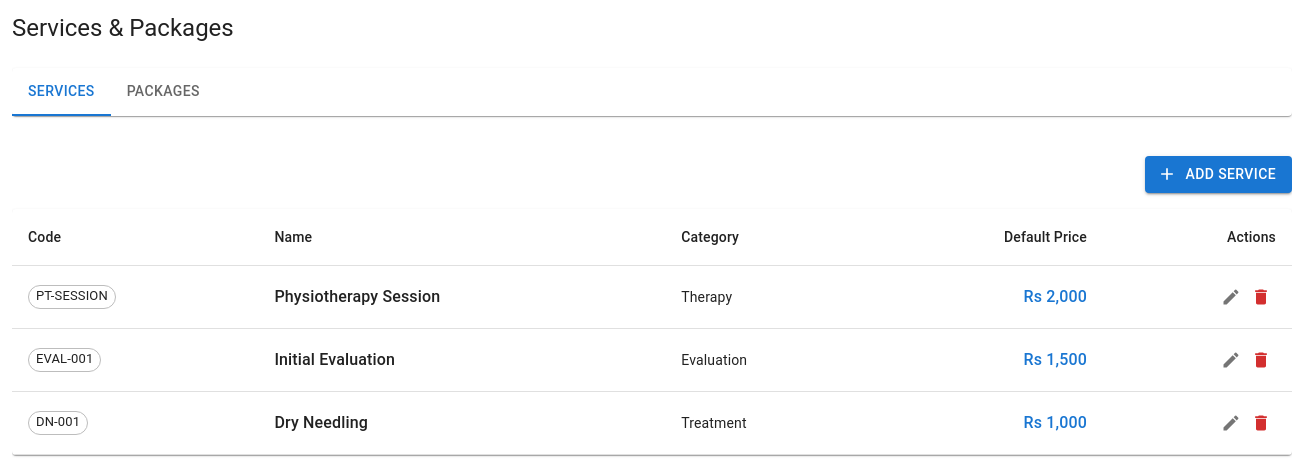
Scenario: Service Management Integration Tests › Error Handling › should handle package load failure gracefully
This screenshot has width=1304, height=474.
Click the tab "Packages" at (163, 92), box [111,68,216,116]
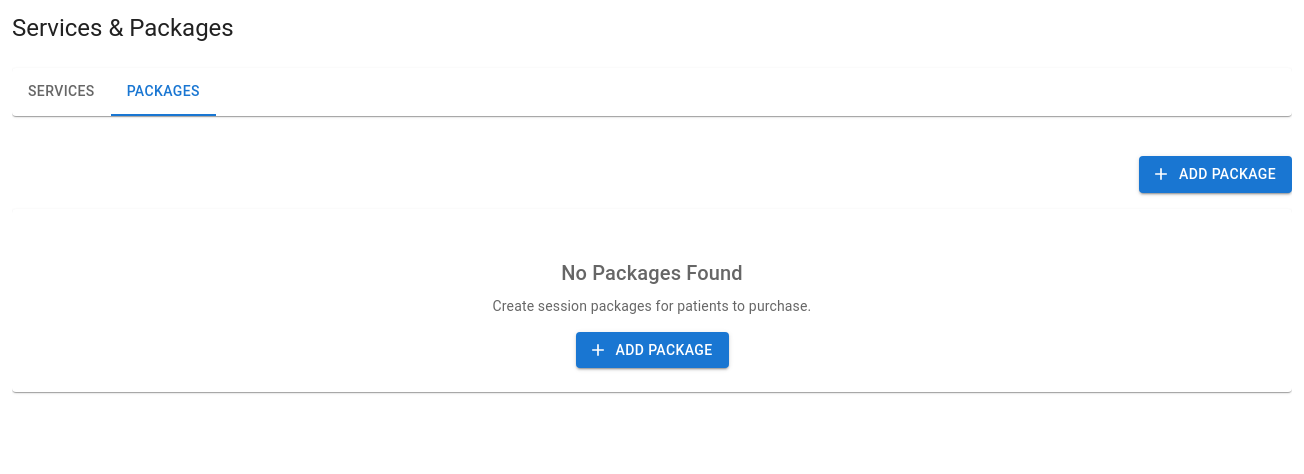
Expected: the heading "No Packages Found" is shown, [561,260,743,284]
